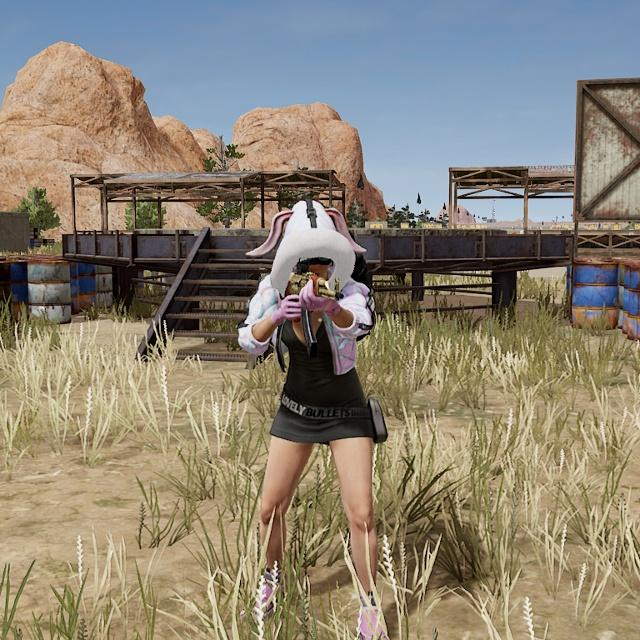head: (273, 197, 353, 295)
people: (225, 194, 422, 640)
